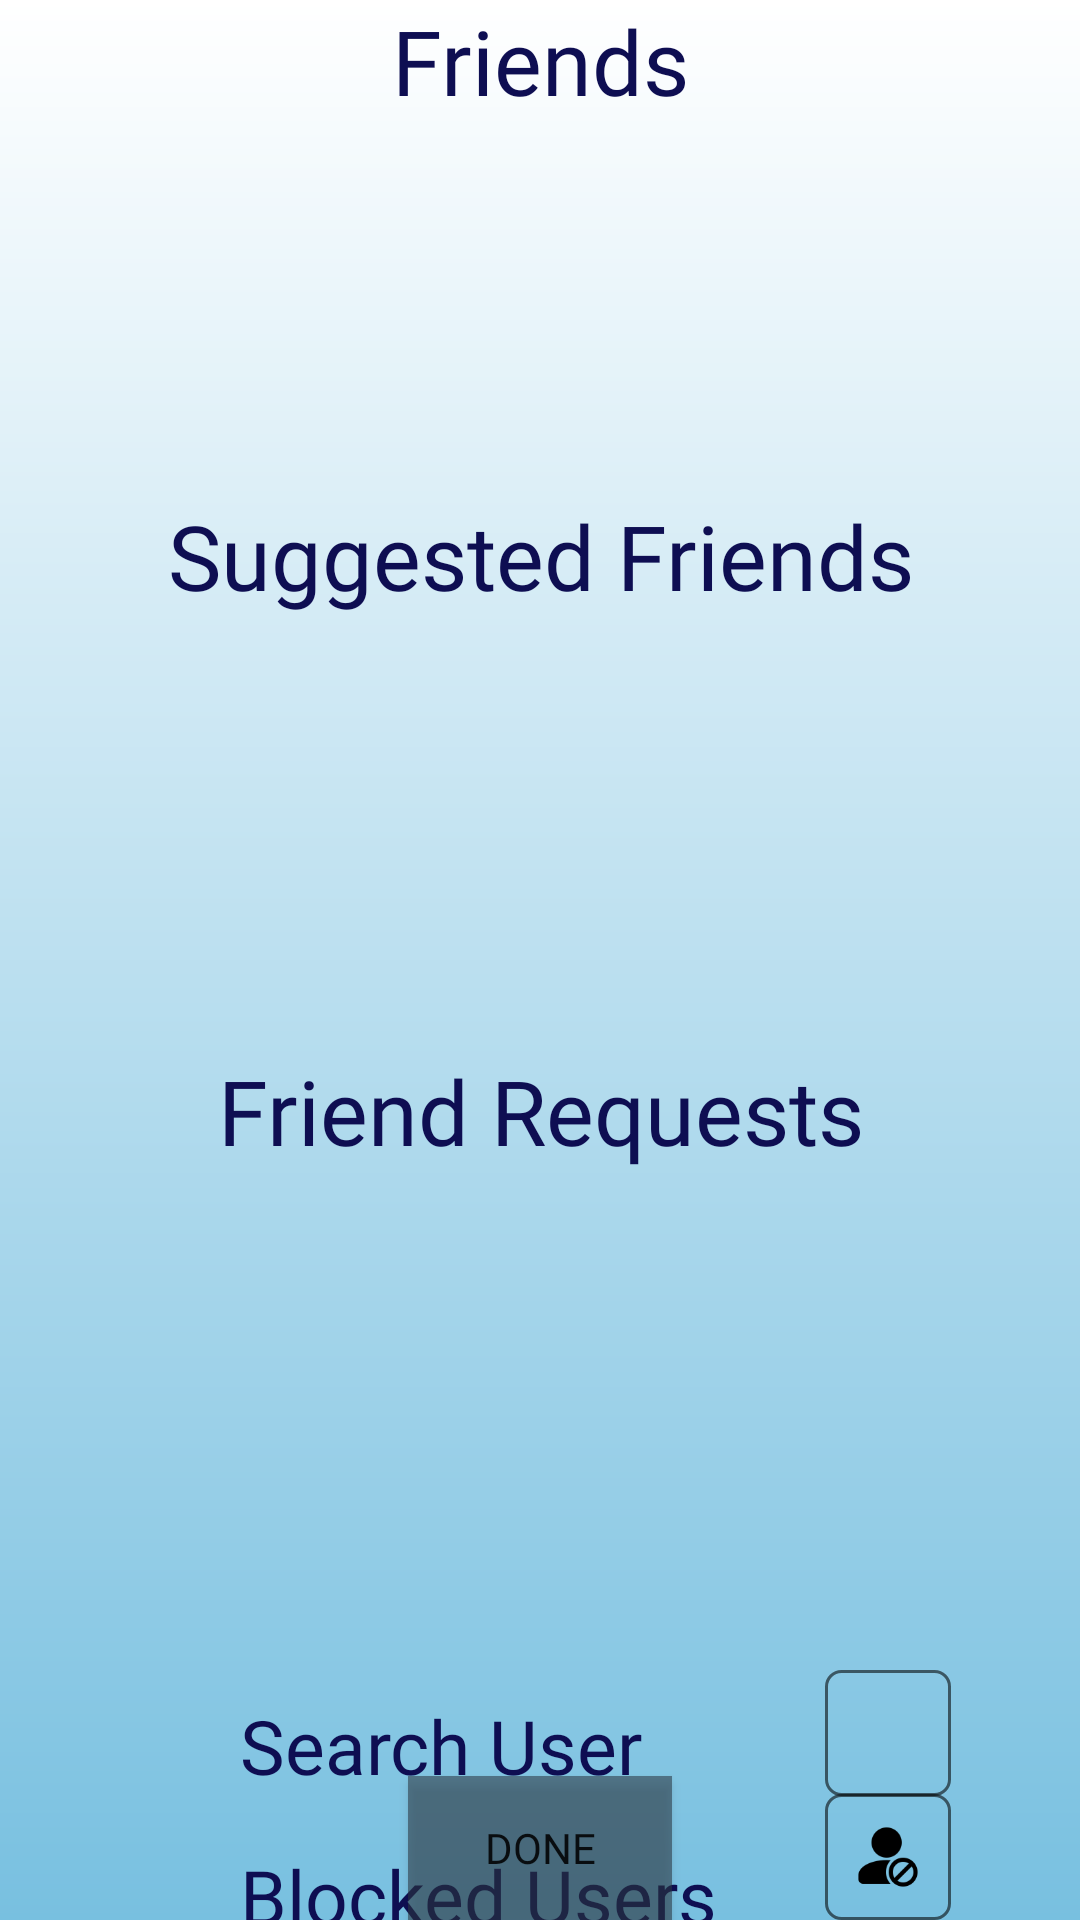

Icon bounding boxes for this 1080 × 1920 phone screenshot, format (x1, y1, x2, y2):
block user: (858, 1827, 918, 1887)
